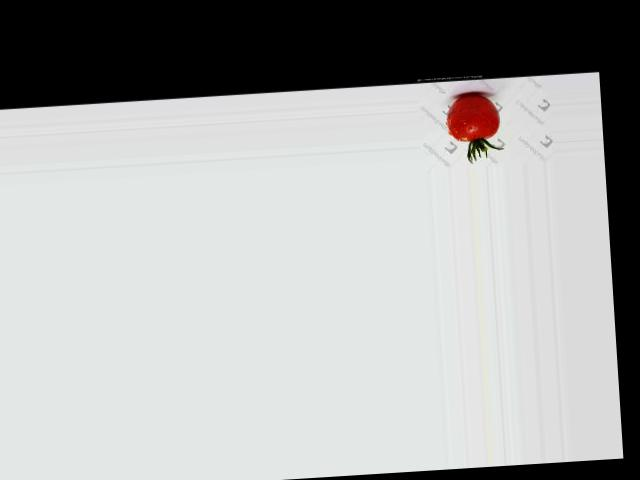tomato: (446, 92, 501, 141)
